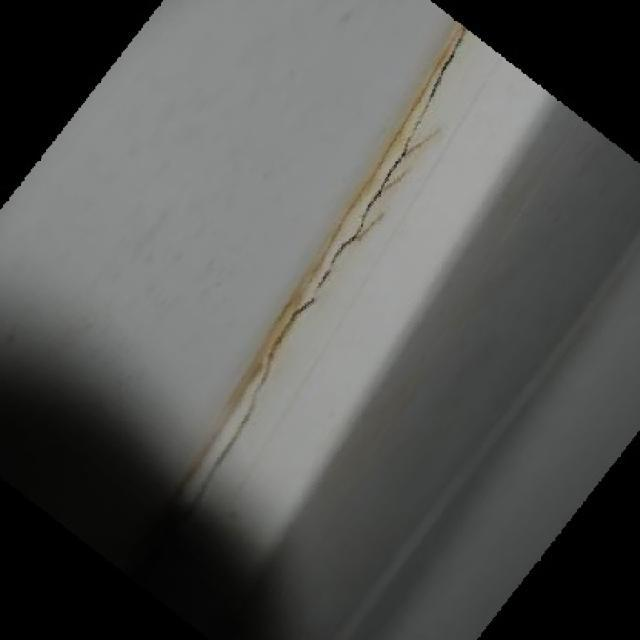crack: (409, 30, 463, 144), (363, 144, 408, 229), (263, 303, 308, 386), (315, 229, 357, 303), (197, 446, 231, 509), (230, 383, 258, 446)
